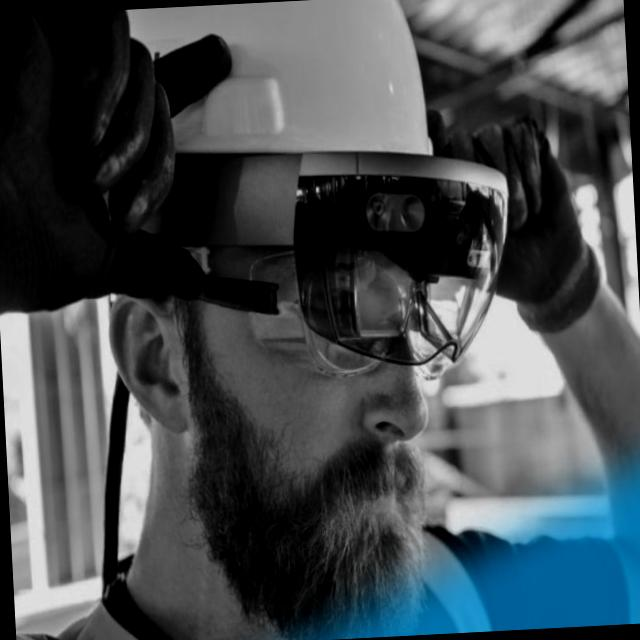goggles: (172, 242, 443, 393)
helmet: (108, 0, 513, 392)
